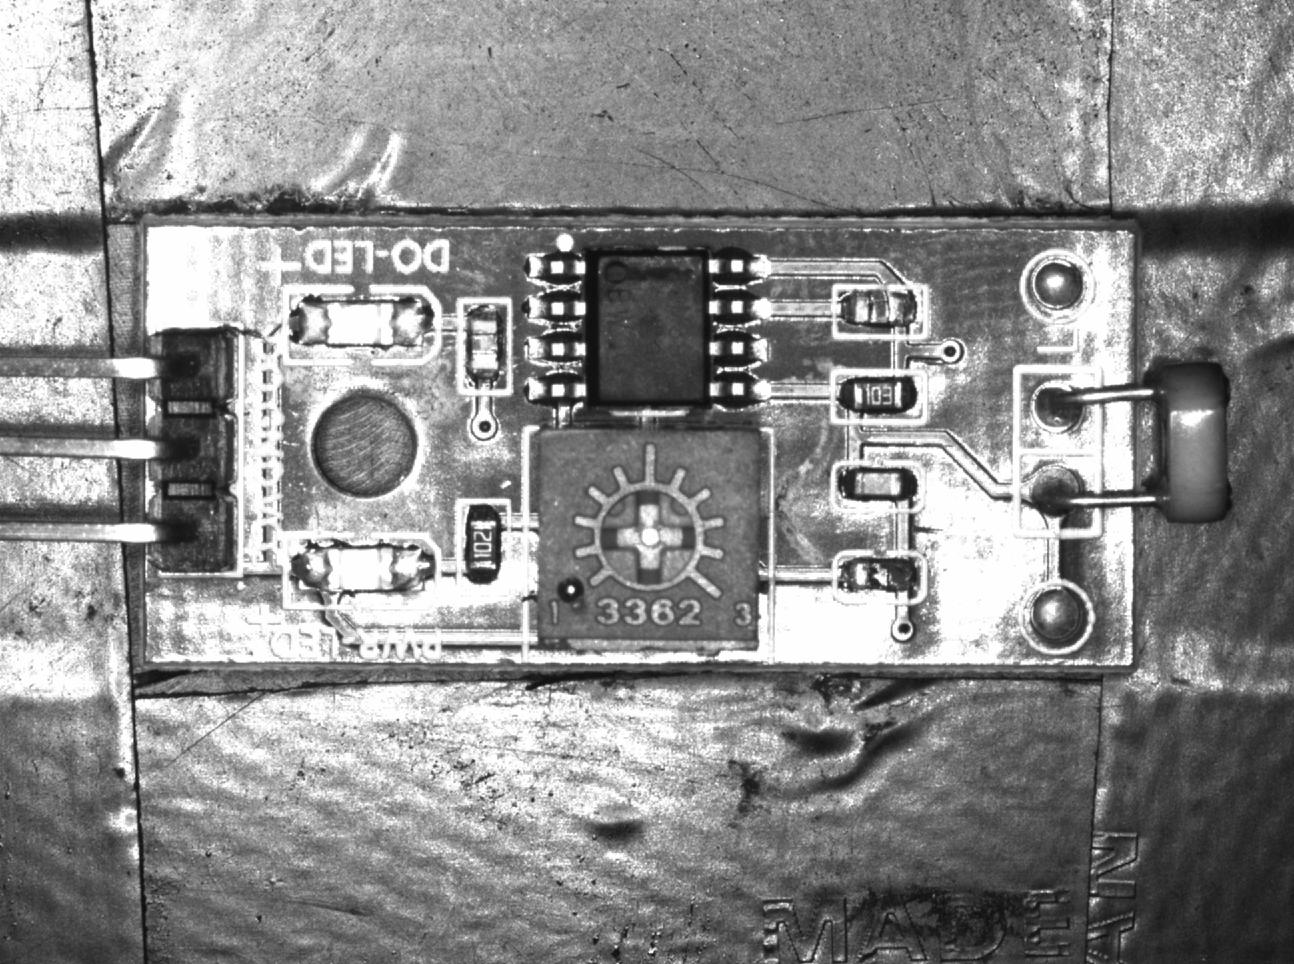miss: (826, 285, 935, 341), (458, 298, 511, 398), (833, 551, 926, 608)
ok: (830, 368, 926, 424), (835, 460, 926, 513), (458, 499, 509, 593)
